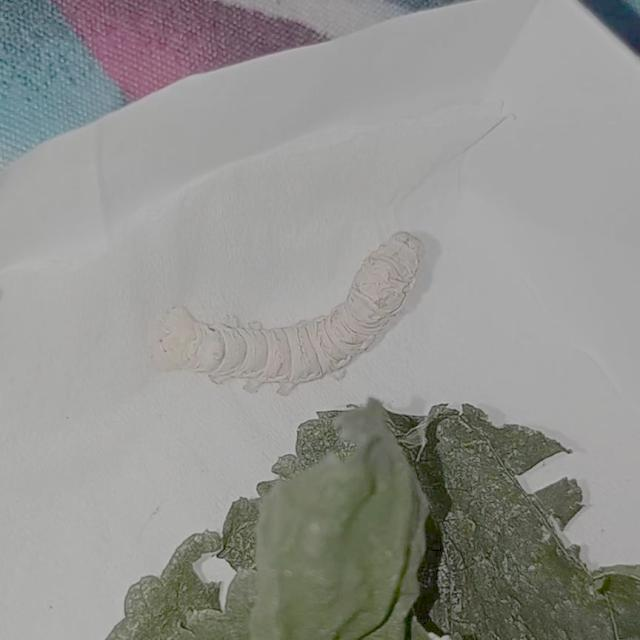Healthy: (142, 221, 428, 400)
